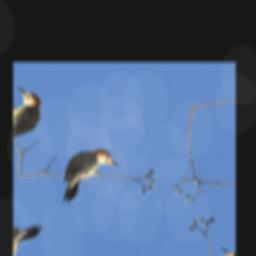Woodpecker: (40, 133, 129, 215)
